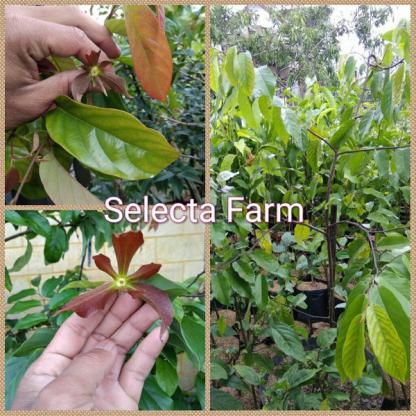Kenanga: (86, 252, 170, 313), (75, 51, 126, 109)
